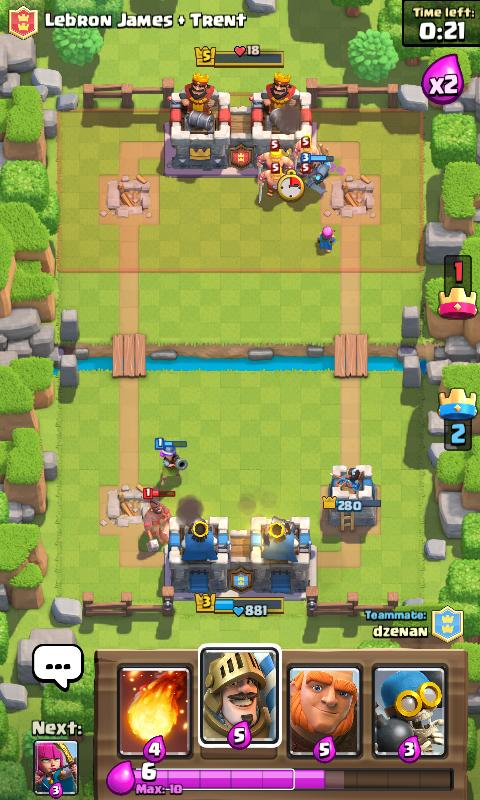ally_archer: (313, 224, 337, 254)
ally_mini_pekka: (299, 151, 333, 194)
ally_musketeer: (153, 436, 188, 485)
enemy_barbarian: (255, 162, 289, 204), (255, 138, 293, 170), (292, 136, 318, 166)
enemy_hog_rider: (140, 485, 175, 553)
